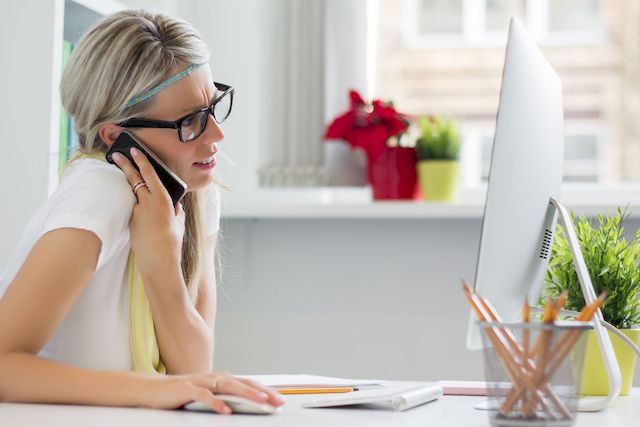phone: (107, 139, 179, 206)
talk: (98, 85, 227, 263)
